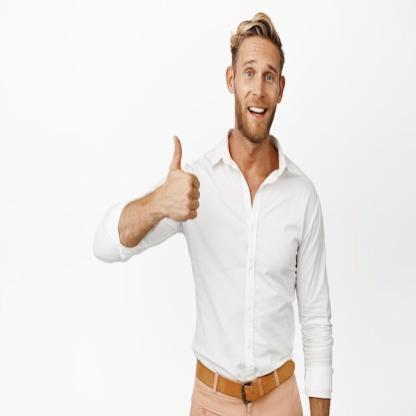thumb_up: (158, 126, 206, 225)
